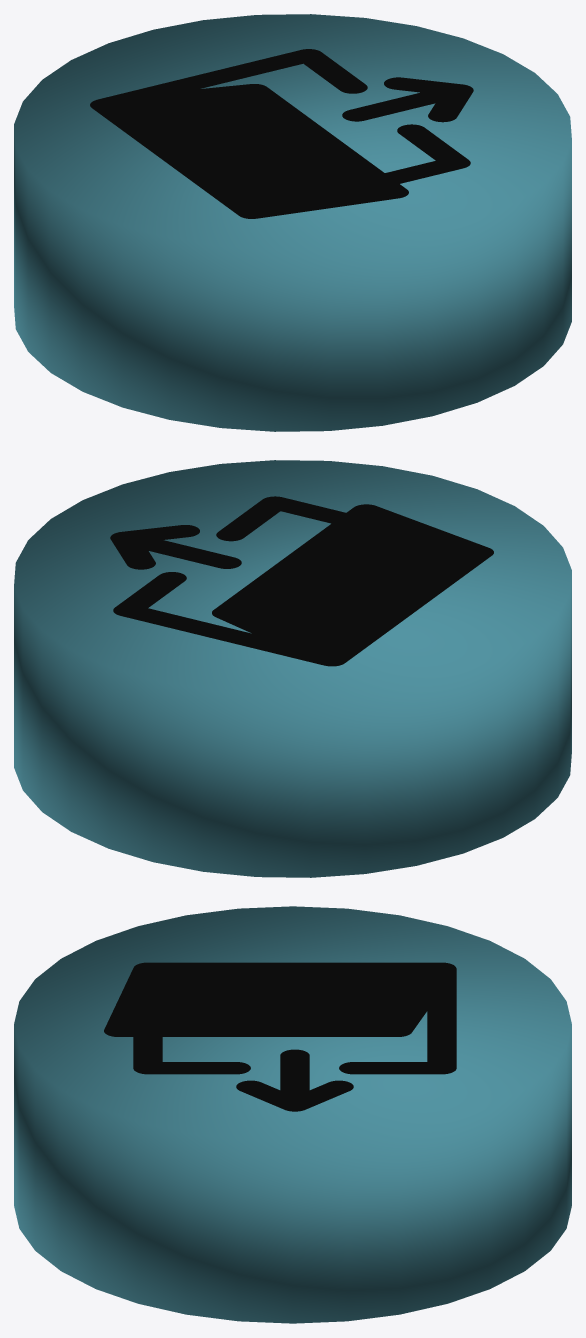
File: exitBtn.fbx
3 renders of one model, top to bottom at view 1: azimuth 30°, elevation 25°; view 2: azimuth 150°, elevation 25°; view 3: azimuth 270°, elevation 25°, orthographic.
Visible parts, largest first — view 1: Curve; view 2: Curve; view 3: Curve.
Part boxes in pixels (x1,y1,x2,y2): Curve: (14, 14, 571, 431); Curve: (14, 460, 571, 877); Curve: (14, 906, 571, 1323).
Bounding box in the file's own units: 200 × 71.82 × 200.
